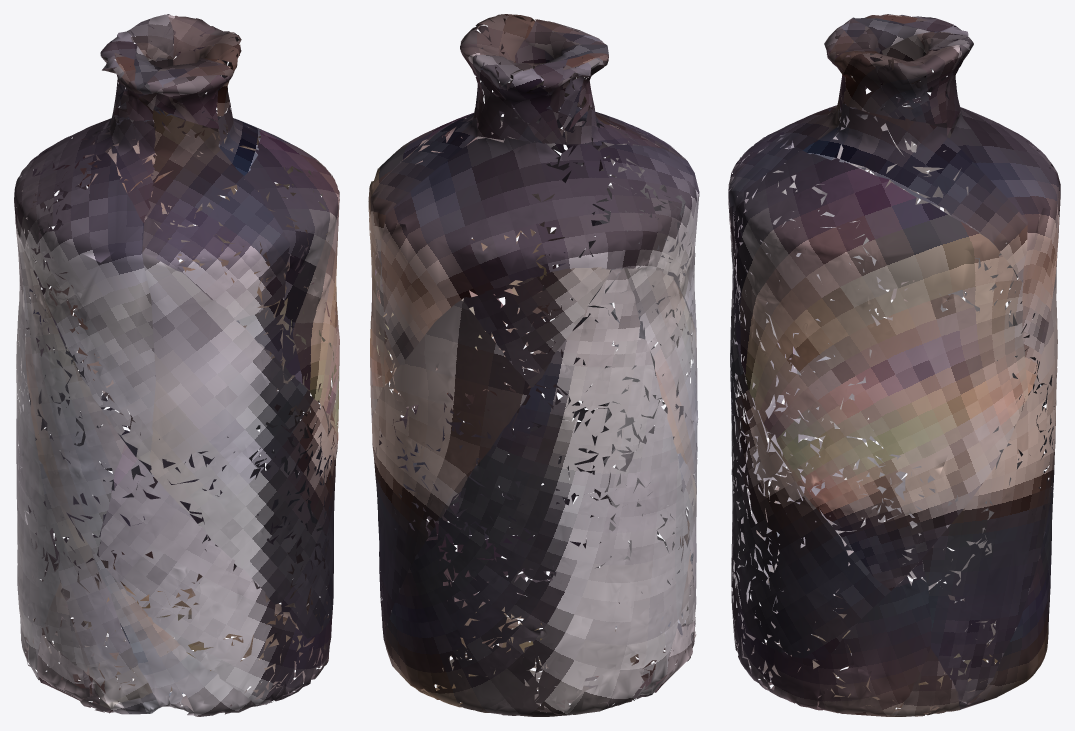
The picture shows the model from 3 angles, left to right: view 1: azimuth 30°, elevation 25°; view 2: azimuth 150°, elevation 25°; view 3: azimuth 270°, elevation 25°; orthographic projection.
Parts seen in each view (by area): view 1: Object_2, Object_9, Object_10, Object_11, Object_8, Object_7, Object_3, Object_6, Object_4, Object_5, Object_12; view 2: Object_6, Object_7, Object_8, Object_4, Object_5, Object_11, Object_2, Object_9, Object_10, Object_12, Object_3; view 3: Object_5, Object_10, Object_3, Object_6, Object_4, Object_2, Object_7, Object_11, Object_9, Object_8.
Part boxes in pixels (x1,y1,x2,y2): Object_2: (27,144,338,658); Object_9: (20,227,338,716); Object_10: (45,26,339,707); Object_11: (18,14,339,713); Object_8: (16,307,281,694); Object_7: (14,14,326,638); Object_3: (67,343,338,715); Object_6: (15,104,307,552); Object_4: (21,394,309,670); Object_5: (16,183,339,503); Object_12: (16,56,267,714); Object_6: (368,82,682,507); Object_7: (368,15,696,716); Object_8: (437,261,698,716); Object_4: (372,377,678,714); Object_5: (370,230,645,619); Object_11: (410,14,696,713); Object_2: (389,125,699,606); Object_9: (471,114,697,698); Object_10: (402,14,691,595); Object_12: (415,40,696,713); Object_3: (375,323,696,677); Object_5: (738,268,1057,600); Object_10: (728,51,954,702); Object_3: (732,409,999,716); Object_6: (733,93,1060,520); Object_4: (847,361,1054,713); Object_2: (730,97,920,712); Object_7: (767,25,1057,477); Object_11: (728,14,983,677); Object_9: (730,160,954,675); Object_8: (733,234,1052,650).
Size of the model in its own units: 0.2615 by 0.5438 by 0.2624.
1 material, 1 textured.
